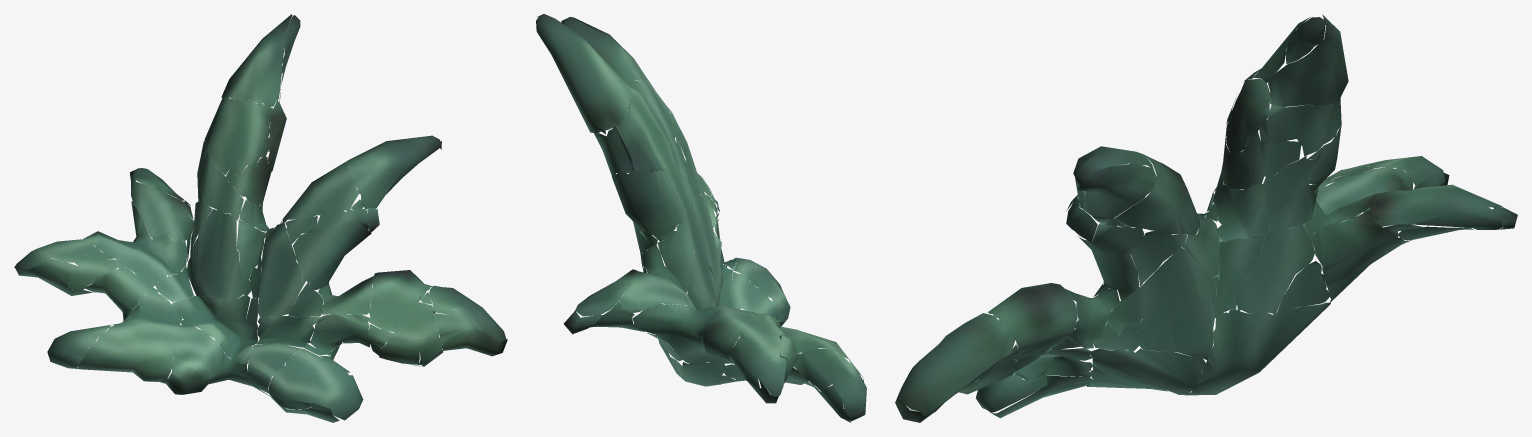
Rendered from green08.glb.
The picture shows the model from 3 angles, left to right: view 1: azimuth 30°, elevation 25°; view 2: azimuth 150°, elevation 25°; view 3: azimuth 270°, elevation 25°; orthographic projection. The views are drawn at different scales.
Visible parts, largest first — view 1: tripo_node_549afd79-5003-4631-9e93-a436387b3a2d; view 2: tripo_node_549afd79-5003-4631-9e93-a436387b3a2d; view 3: tripo_node_549afd79-5003-4631-9e93-a436387b3a2d.
Boxes of the visible parts, x1,y1,x2,y2 form: tripo_node_549afd79-5003-4631-9e93-a436387b3a2d: (14,14,507,422); tripo_node_549afd79-5003-4631-9e93-a436387b3a2d: (536,14,866,422); tripo_node_549afd79-5003-4631-9e93-a436387b3a2d: (895,14,1517,422).
Bounding box in the file's own units: 0.8784 × 0.7884 × 1.
Materials: 1 (1 with a texture image).
